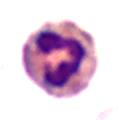neutrophil: (23, 20, 100, 102)
